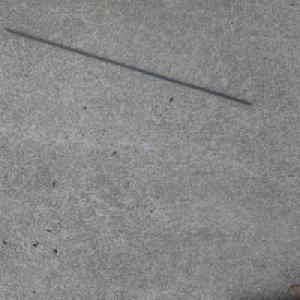LuggagePart: (4, 27, 253, 106)
